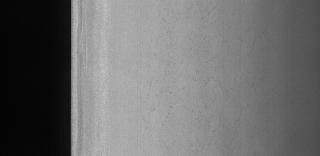silk spot: (149, 8, 223, 126)
